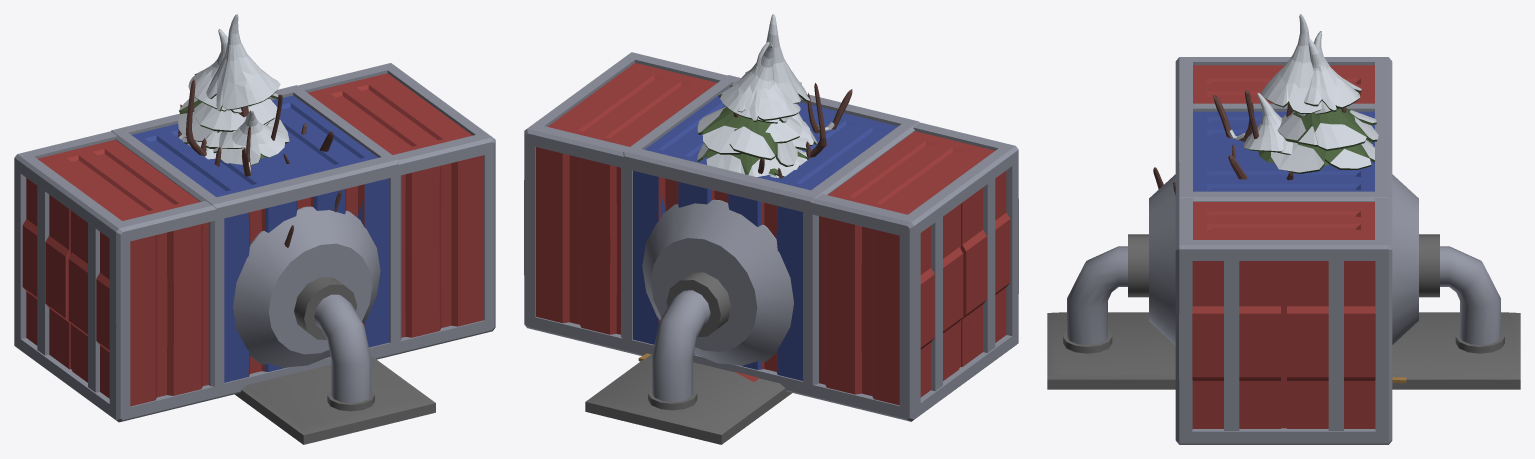
File: props.glb
3 views of the same model, side by side, from view 1: azimuth 30°, elevation 25°; view 2: azimuth 150°, elevation 25°; view 3: azimuth 270°, elevation 25° (orthographic). The views are drawn at different scales.
Parts seen in each view (by area): view 1: Container_Long, WaterTank_Floor, Container_Small, PineTree_Snow_2, PineTree_Snow_4, PineTree_Snow_5, PineTree_Snow_3, CommonTree_Dead_Snow_2; view 2: Container_Long, WaterTank_Floor, Container_Small, PineTree_Snow_4, PineTree_Snow_3, PineTree_Snow_2, CommonTree_Dead_Snow_2; view 3: Container_Long, WaterTank_Floor, Container_Small, PineTree_Snow_4, PineTree_Snow_2, PineTree_Snow_5, PineTree_Snow_3, CommonTree_Dead_Snow_2.
Part boxes in pixels (x1,y1,x2,y2): Container_Long: (14, 63, 495, 422); WaterTank_Floor: (233, 206, 435, 444); Container_Small: (111, 85, 401, 386); PineTree_Snow_2: (206, 14, 280, 158); PineTree_Snow_4: (181, 29, 289, 148); PineTree_Snow_5: (213, 110, 285, 165); PineTree_Snow_3: (178, 63, 269, 159); CommonTree_Dead_Snow_2: (185, 79, 341, 247); Container_Long: (524, 52, 1018, 421); WaterTank_Floor: (585, 199, 793, 444); Container_Small: (621, 75, 919, 384); PineTree_Snow_4: (697, 44, 810, 177); PineTree_Snow_3: (729, 42, 809, 177); PineTree_Snow_2: (741, 14, 809, 148); CommonTree_Dead_Snow_2: (733, 83, 852, 157); Container_Long: (1175, 57, 1392, 444); WaterTank_Floor: (1047, 174, 1520, 389); Container_Small: (1175, 103, 1392, 201); PineTree_Snow_4: (1271, 31, 1378, 173); PineTree_Snow_2: (1258, 14, 1321, 163); PineTree_Snow_5: (1243, 92, 1284, 152); PineTree_Snow_3: (1284, 38, 1376, 166); CommonTree_Dead_Snow_2: (1153, 95, 1346, 195).
Size of the model in its own units: 4.36 by 3.84 by 4.57.
